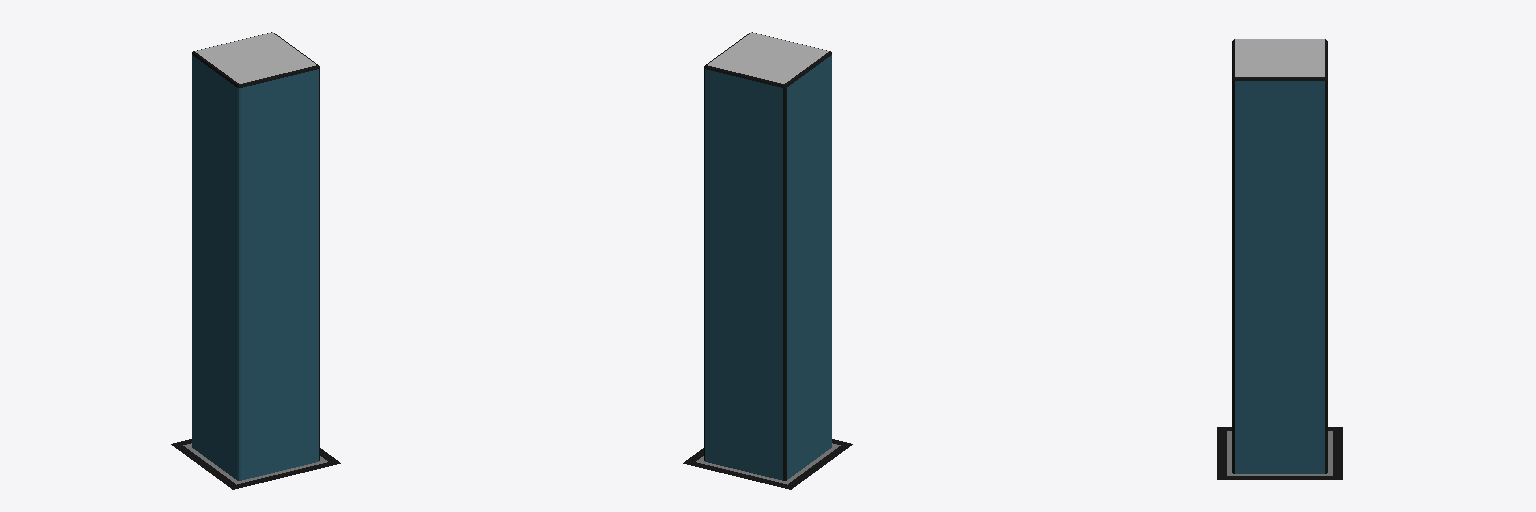
The model's file is bldg2.obj.
3 views of the same model, side by side, from view 1: azimuth 30°, elevation 25°; view 2: azimuth 150°, elevation 25°; view 3: azimuth 270°, elevation 25° (orthographic).
Visible parts, largest first — view 1: pPlane1; view 2: pPlane1; view 3: pPlane1.
Boxes of the visible parts, <box> form: pPlane1: <box>171,32,340,489</box>; pPlane1: <box>683,32,852,489</box>; pPlane1: <box>1217,39,1342,479</box>.
Bounding box in the file's own units: 10 × 34.78 × 10.